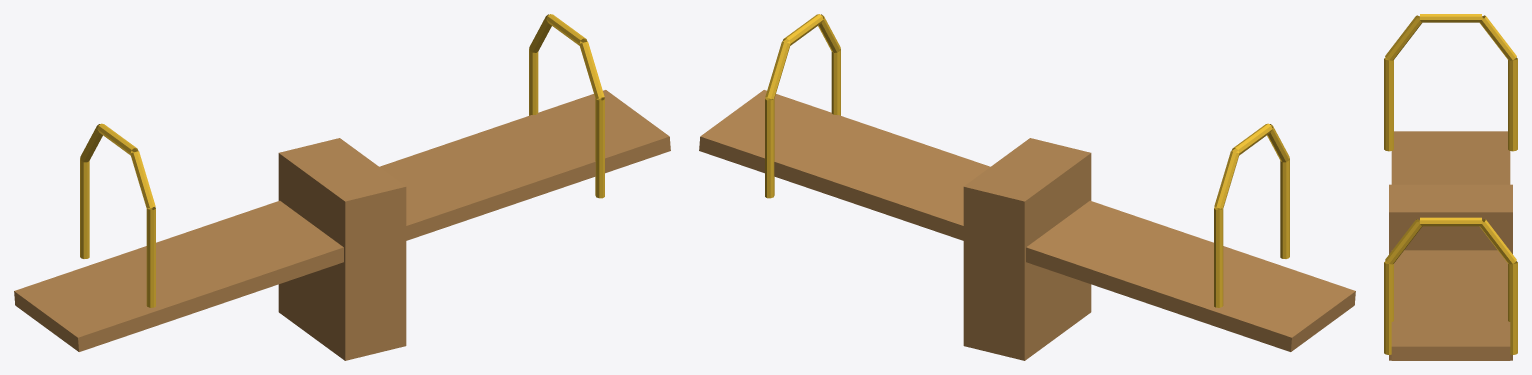
The picture shows the model from 3 angles, left to right: view 1: azimuth 30°, elevation 25°; view 2: azimuth 150°, elevation 25°; view 3: azimuth 270°, elevation 25°; orthographic projection. The views are drawn at different scales.
Visible parts, largest first — view 1: SW-A408; view 2: SW-A408; view 3: SW-A408.
Boxes of the visible parts, x1,y1,x2,y2 form: SW-A408: (14, 14, 670, 360); SW-A408: (699, 14, 1355, 360); SW-A408: (1384, 14, 1517, 360).
Bounding box in the file's own units: 3 × 1.2 × 0.63.
